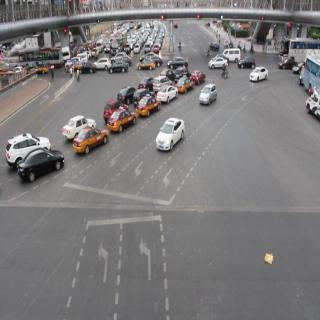Car: (18, 150, 63, 193), (4, 130, 53, 161), (156, 111, 186, 152), (72, 127, 107, 156), (58, 110, 95, 137), (101, 94, 132, 120), (110, 106, 139, 132), (220, 43, 242, 65), (246, 63, 268, 85), (138, 97, 159, 119), (156, 83, 178, 104), (168, 52, 188, 74), (119, 84, 138, 105), (199, 85, 218, 105), (76, 58, 95, 78), (208, 52, 228, 70), (238, 55, 256, 74), (109, 59, 127, 78), (174, 78, 195, 94), (190, 68, 209, 85), (152, 74, 173, 89), (142, 74, 158, 93), (137, 56, 154, 73), (159, 68, 177, 84), (144, 53, 164, 67), (95, 58, 112, 74), (112, 48, 128, 62), (180, 67, 193, 81)
